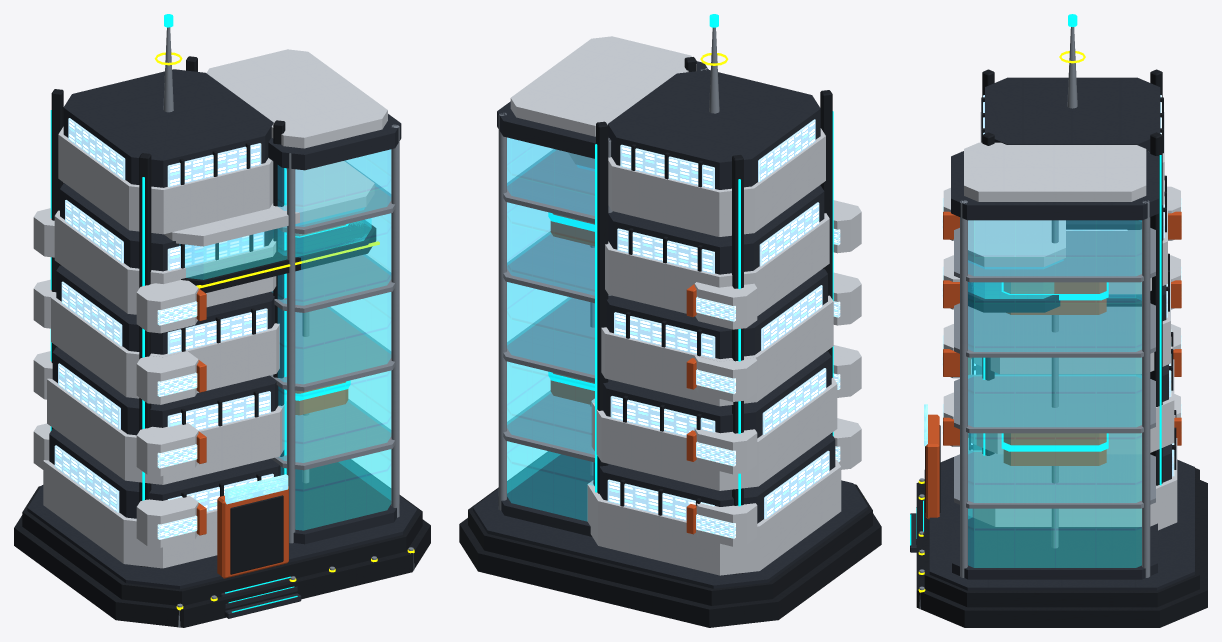
File: bldg_01_r1_05.glb
3 views of the same model, side by side, from view 1: azimuth 30°, elevation 25°; view 2: azimuth 150°, elevation 25°; view 3: azimuth 270°, elevation 25° (orthographic). The views are drawn at different scales.
Visible parts, largest first — view 1: Bldg01_C05_aero_white, Bldg01_C05_carbon_slate, Bldg01_C05_glass_cyan, Bldg01_C05_gunmetal, Bldg01_C05_steel_machined, Bldg01_C05_window_lit, Bldg01_C05_accent_orange, Bldg01_C05_led_cyan, Bldg01_C05_marquee, Bldg01_C05_led_amber; view 2: Bldg01_C05_aero_white, Bldg01_C05_carbon_slate, Bldg01_C05_glass_cyan, Bldg01_C05_gunmetal, Bldg01_C05_steel_machined, Bldg01_C05_window_lit, Bldg01_C05_led_cyan, Bldg01_C05_accent_orange; view 3: Bldg01_C05_glass_cyan, Bldg01_C05_steel_machined, Bldg01_C05_carbon_slate, Bldg01_C05_aero_white, Bldg01_C05_gunmetal, Bldg01_C05_accent_orange, Bldg01_C05_led_cyan, Bldg01_C05_window_lit.
Part boxes in pixels (x1,y1,x2,y2): Bldg01_C05_aero_white: [33, 49, 387, 568]; Bldg01_C05_carbon_slate: [27, 69, 417, 618]; Bldg01_C05_glass_cyan: [179, 149, 391, 530]; Bldg01_C05_gunmetal: [14, 56, 430, 627]; Bldg01_C05_steel_machined: [163, 27, 414, 627]; Bldg01_C05_window_lit: [54, 118, 273, 539]; Bldg01_C05_accent_orange: [196, 224, 348, 578]; Bldg01_C05_led_cyan: [50, 14, 350, 612]; Bldg01_C05_marquee: [225, 474, 288, 504]; Bldg01_C05_led_amber: [154, 52, 414, 610]; Bldg01_C05_aero_white: [510, 36, 861, 575]; Bldg01_C05_carbon_slate: [473, 61, 867, 588]; Bldg01_C05_glass_cyan: [507, 137, 594, 521]; Bldg01_C05_gunmetal: [459, 57, 881, 627]; Bldg01_C05_steel_machined: [498, 27, 719, 510]; Bldg01_C05_window_lit: [607, 119, 840, 538]; Bldg01_C05_led_cyan: [548, 14, 833, 506]; Bldg01_C05_accent_orange: [550, 213, 696, 534]; Bldg01_C05_glass_cyan: [968, 220, 1141, 567]; Bldg01_C05_steel_machined: [919, 27, 1155, 609]; Bldg01_C05_carbon_slate: [910, 77, 1194, 590]; Bldg01_C05_aero_white: [943, 112, 1180, 530]; Bldg01_C05_gunmetal: [916, 69, 1207, 627]; Bldg01_C05_accent_orange: [925, 211, 1181, 519]; Bldg01_C05_led_cyan: [910, 14, 1161, 545]; Bldg01_C05_window_lit: [942, 95, 1181, 476].
Size of the model in its own units: 12 by 19.52 by 10.23.
Materials: 10 (10 with a texture image).
